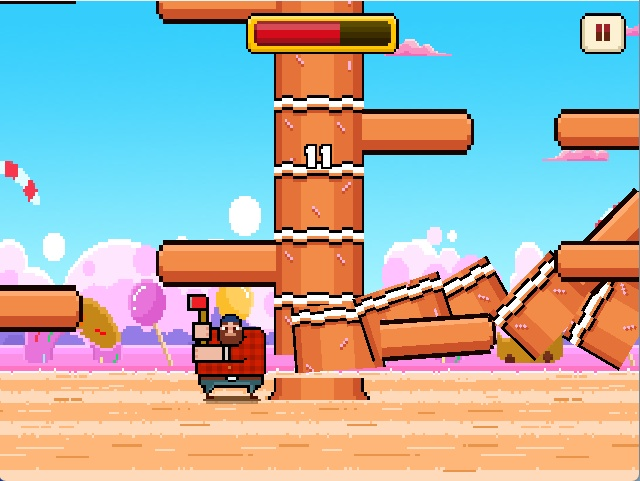left_obs: (151, 232, 281, 291)
right_obs: (354, 93, 474, 157)
timberman: (179, 292, 271, 406)
